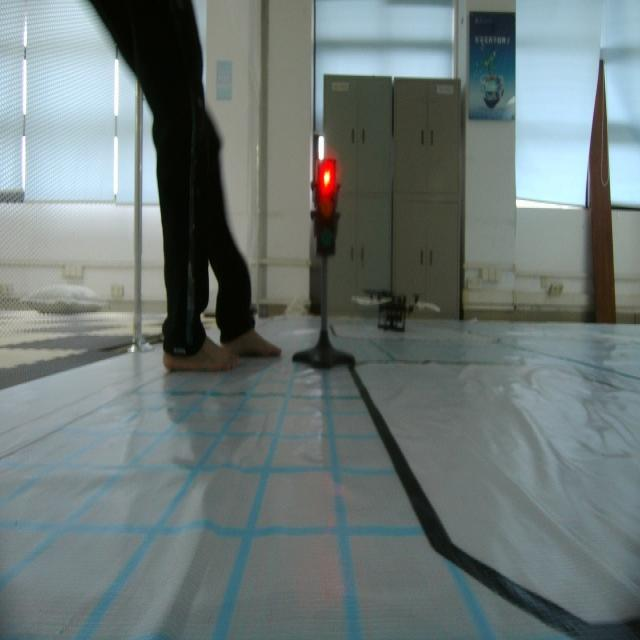red: (311, 156, 341, 264)
